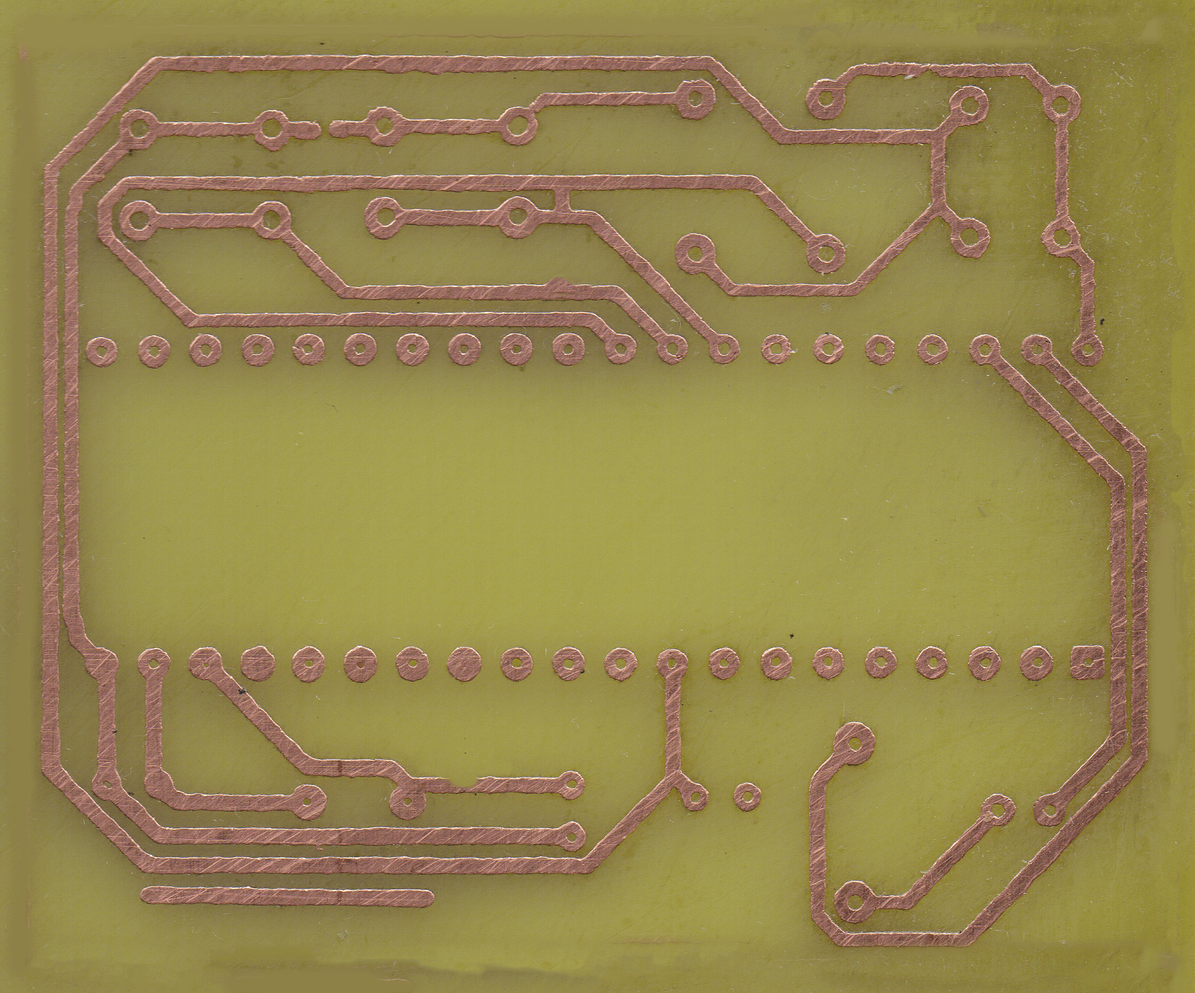mouse_bite: (442, 776, 484, 794), (917, 65, 942, 80)
open_circuit: (311, 122, 341, 144)
short: (544, 176, 581, 226)
spur: (544, 274, 581, 299)
spurious_copper: (137, 884, 434, 913)
